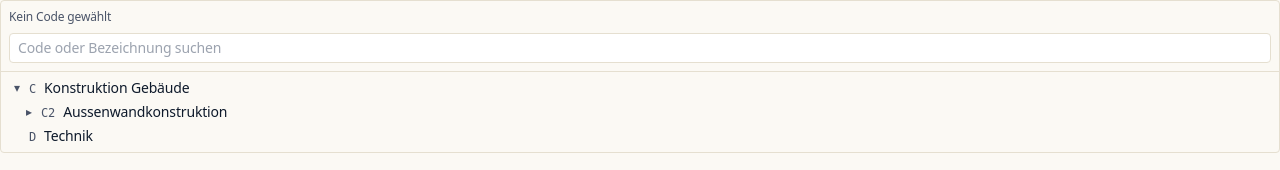
Test: BkpCodePicker › filters the tree by search term
The width and height of the screenshot is (1280, 170).
Check: the text "Konstruktion Gebäude" is shown, box [44, 78, 190, 97]
Type "Fenster" into the search field labelled "Code oder Bezeichnung suchen" at (640, 48), box [9, 33, 1271, 63]
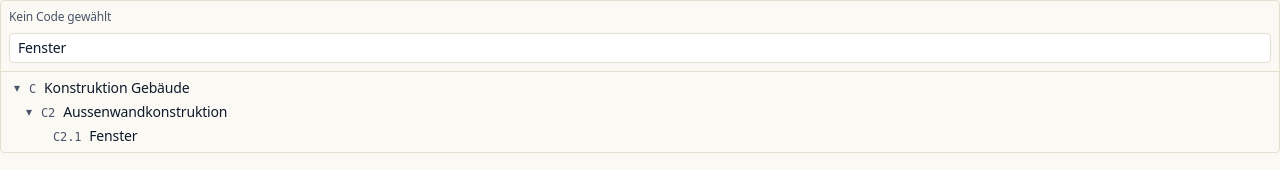
Check: the text "Fenster" is shown, box [89, 126, 137, 145]
Check: the button "Technik" is gone
